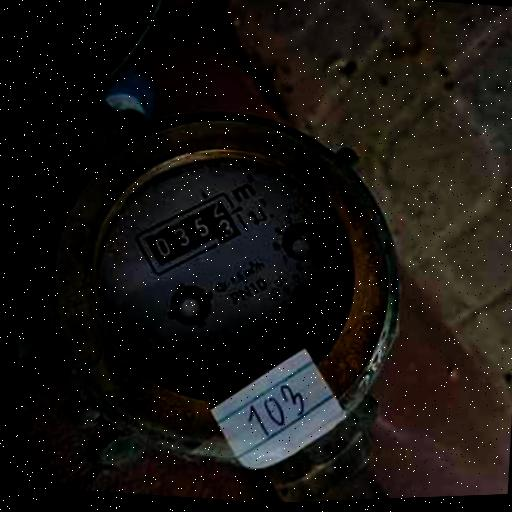0: (140, 224, 184, 269)
2: (196, 196, 245, 249)
3: (160, 214, 203, 260)
5: (181, 206, 220, 248)
border_water_meter_number: (125, 177, 255, 289)
